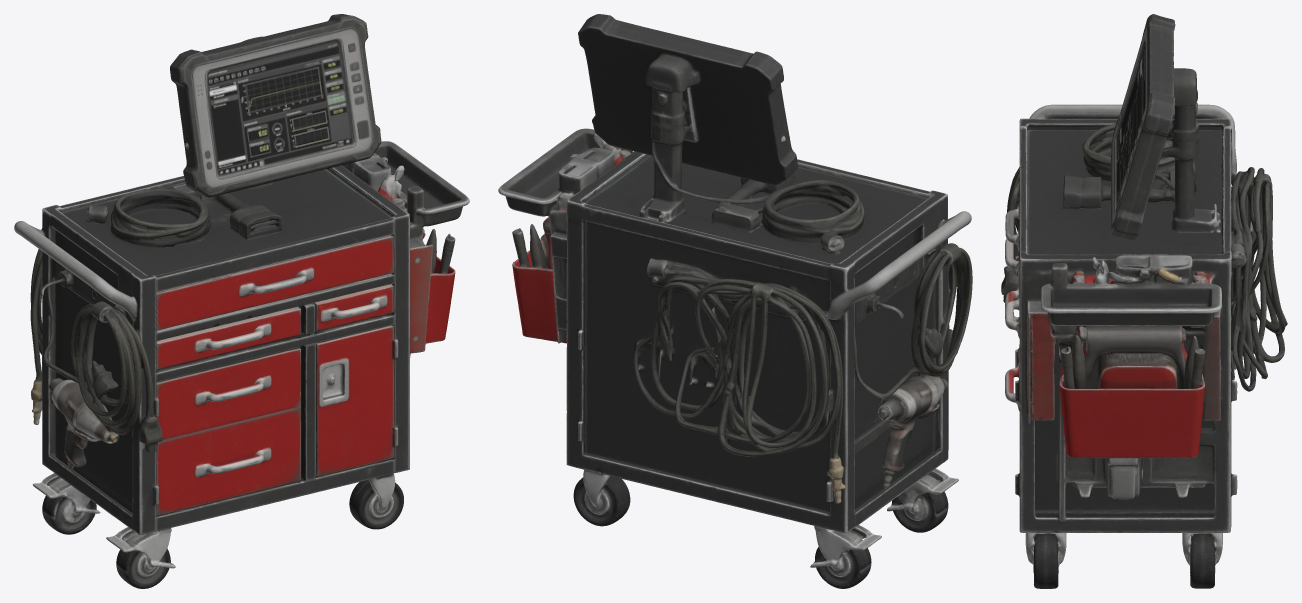
The model's file is workshop-diag-cart.glb.
3 views of the same model, side by side, from view 1: azimuth 30°, elevation 25°; view 2: azimuth 150°, elevation 25°; view 3: azimuth 270°, elevation 25° (orthographic). The views are drawn at different scales.
Bounding box in the file's own units: 1.59 × 1.9 × 0.975.
Materials: 1 (1 with a texture image).
